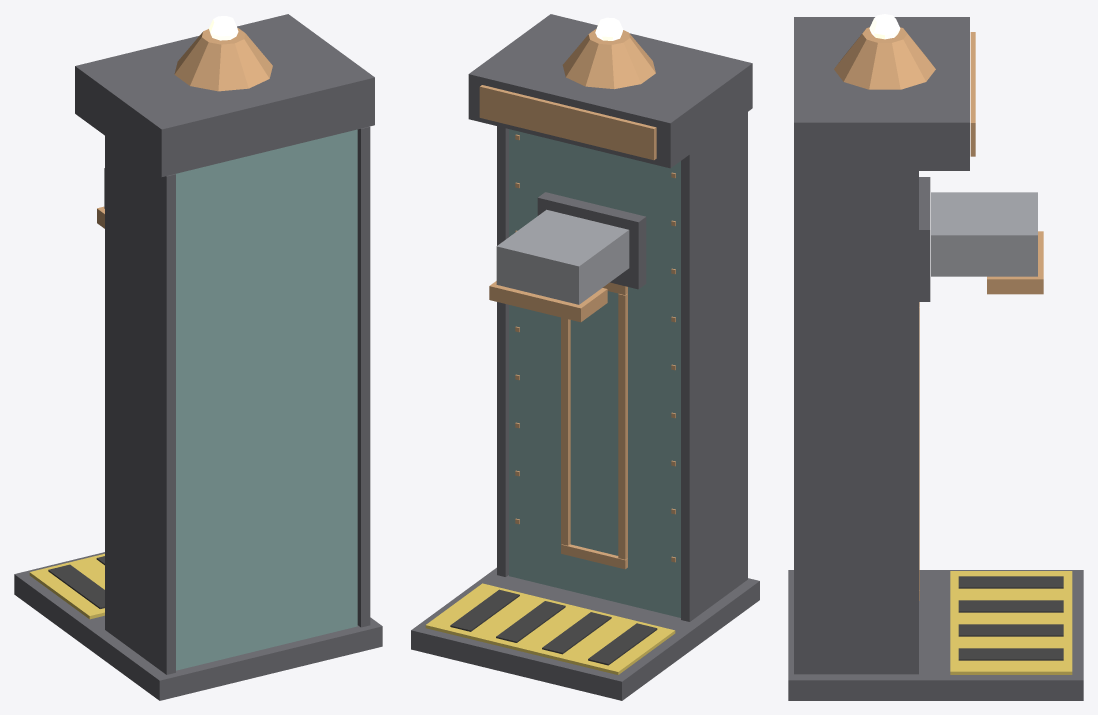
The model's file is punch_machine.glb.
3 renders of one model, left to right at view 1: azimuth 30°, elevation 25°; view 2: azimuth 150°, elevation 25°; view 3: azimuth 270°, elevation 25°, orthographic. The views are drawn at different scales.
Parts seen in each view (by area): view 1: PunchMachine; view 2: PunchMachine; view 3: PunchMachine.
Part boxes in pixels (x1=…): PunchMachine: x1=14, y1=14, x2=382, y2=700; PunchMachine: x1=411, y1=14, x2=759, y2=700; PunchMachine: x1=788, y1=14, x2=1083, y2=700.
Bounding box in the file's own units: 0.92 × 2.46 × 1.04.
